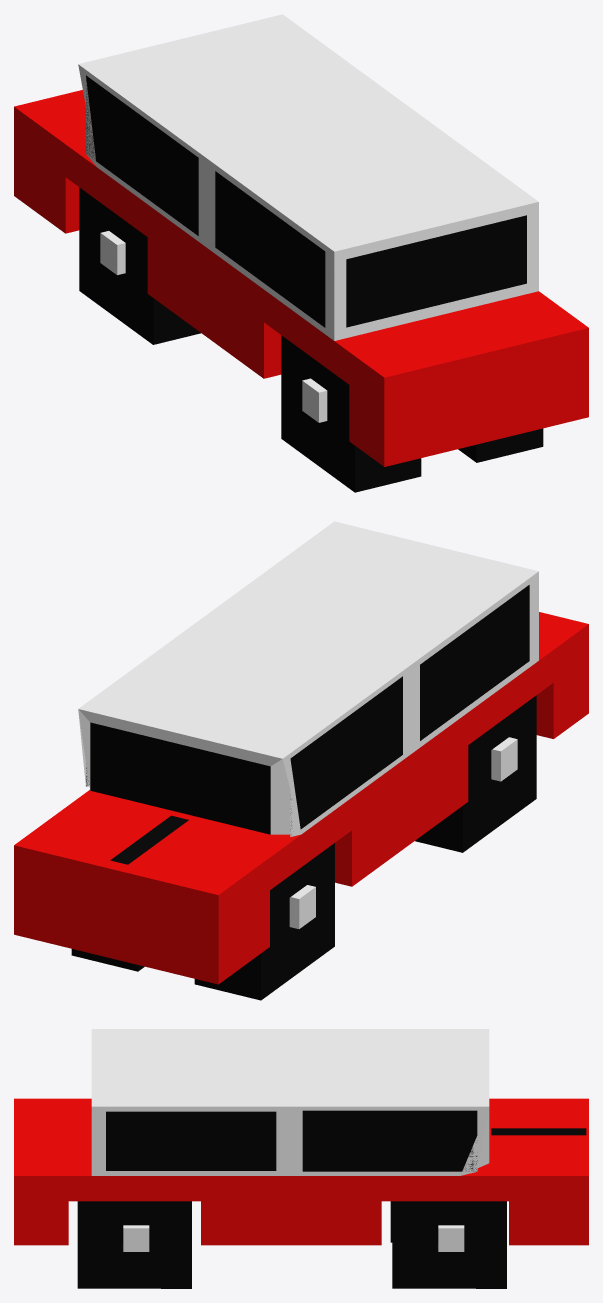
File: Carro.glb
The picture shows the model from 3 angles, top to bottom: view 1: azimuth 30°, elevation 25°; view 2: azimuth 150°, elevation 25°; view 3: azimuth 270°, elevation 25°; orthographic projection. The views are drawn at different scales.
Visible parts, largest first — view 1: Cube; view 2: Cube; view 3: Cube.
Part boxes in pixels (x1=…): Cube: x1=14, y1=14, x2=588, y2=492; Cube: x1=14, y1=521, x2=588, y2=1000; Cube: x1=14, y1=1029, x2=588, y2=1288.
Size of the model in its own units: 2.82 by 3.07 by 8.69.
